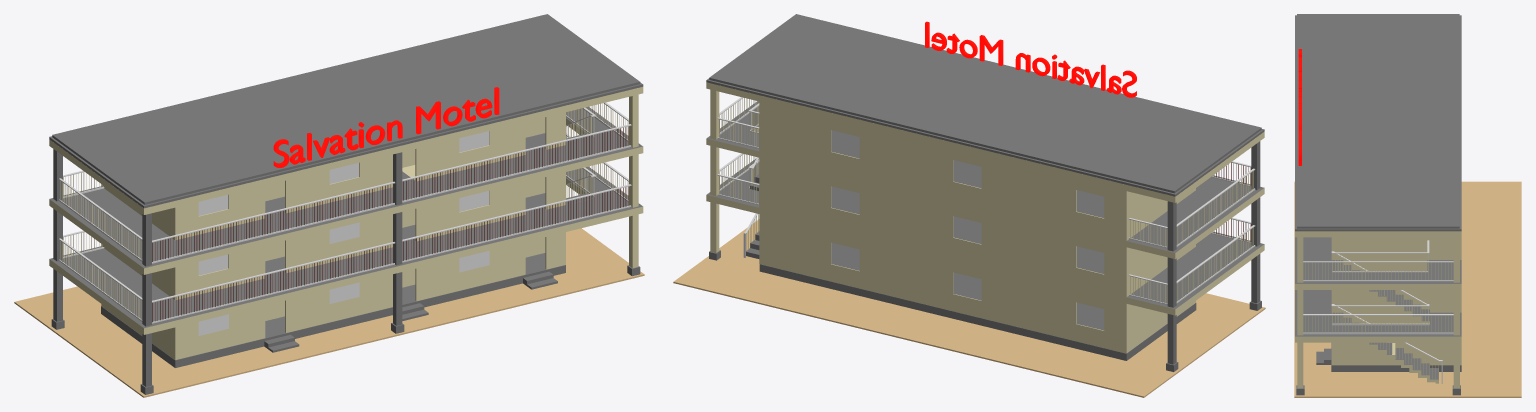
The model's file is Motel Milestone 3.fbx.
The picture shows the model from 3 angles, left to right: view 1: azimuth 30°, elevation 25°; view 2: azimuth 150°, elevation 25°; view 3: azimuth 270°, elevation 25°; orthographic projection. The views are drawn at different scales.
Parts seen in each view (by area): view 1: MotelBody, MotelRoof, Cube.222, Cube.238, Cube.234, Cube.247, MotelFoundation, Text.022, Cube.237, Cube.229, Cube.225, Cube.224 (+5 smaller); view 2: MotelBody, MotelRoof, Cube.222, Cube.247, MotelFoundation, Text.022, Cube.237, Cube.226, Cube.227, Cube.225, Cube.230, Cube.235 (+2 smaller); view 3: MotelRoof, Cube.222, MotelBody, Cube.237, Cube.230, Stairs.001, Stairs, Cube.241, Cube.224, Cube.227, Cube.232, MotelFoundation (+5 smaller).
Boxes of the visible parts, x1=… form: MotelBody: x1=49, y1=87, x2=643, y2=359; MotelRoof: x1=49, y1=14, x2=643, y2=208; Cube.222: x1=14, y1=228, x2=644, y2=397; Cube.238: x1=152, y1=126, x2=628, y2=322; Cube.234: x1=152, y1=124, x2=631, y2=323; Cube.247: x1=198, y1=131, x2=489, y2=335; MotelFoundation: x1=101, y1=265, x2=565, y2=367; Text.022: x1=273, y1=87, x2=499, y2=167; Cube.237: x1=60, y1=103, x2=628, y2=319; Cube.229: x1=265, y1=117, x2=545, y2=320; Cube.225: x1=140, y1=213, x2=153, y2=394; Cube.224: x1=627, y1=94, x2=640, y2=276; MotelBody: x1=706, y1=82, x2=1264, y2=353; MotelRoof: x1=706, y1=14, x2=1264, y2=196; Cube.222: x1=673, y1=219, x2=1265, y2=397; Cube.247: x1=831, y1=130, x2=1104, y2=330; MotelFoundation: x1=759, y1=264, x2=1196, y2=360; Text.022: x1=925, y1=21, x2=1136, y2=97; Cube.237: x1=719, y1=98, x2=1253, y2=301; Cube.226: x1=1166, y1=201, x2=1178, y2=371; Cube.227: x1=709, y1=89, x2=720, y2=260; Cube.225: x1=1249, y1=141, x2=1261, y2=310; Cube.230: x1=719, y1=97, x2=1255, y2=303; Cube.235: x1=717, y1=117, x2=1167, y2=304; MotelRoof: x1=1295, y1=14, x2=1461, y2=231; Cube.222: x1=1294, y1=181, x2=1521, y2=397; MotelBody: x1=1295, y1=231, x2=1461, y2=365; Cube.237: x1=1305, y1=262, x2=1451, y2=332; Cube.230: x1=1303, y1=261, x2=1453, y2=334; Stairs.001: x1=1331, y1=312, x2=1438, y2=383; Stairs: x1=1331, y1=260, x2=1429, y2=324; Cube.241: x1=1332, y1=253, x2=1428, y2=323; Cube.224: x1=1296, y1=237, x2=1304, y2=395; Cube.227: x1=1452, y1=237, x2=1460, y2=395; Cube.232: x1=1331, y1=240, x2=1442, y2=383; MotelFoundation: x1=1331, y1=343, x2=1461, y2=371.
Bounding box in the file's own units: 2498 × 1052 × 1117.
